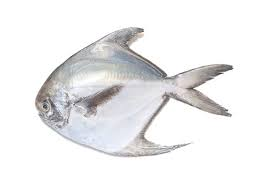Ikan Bawal: (34, 26, 230, 155)
